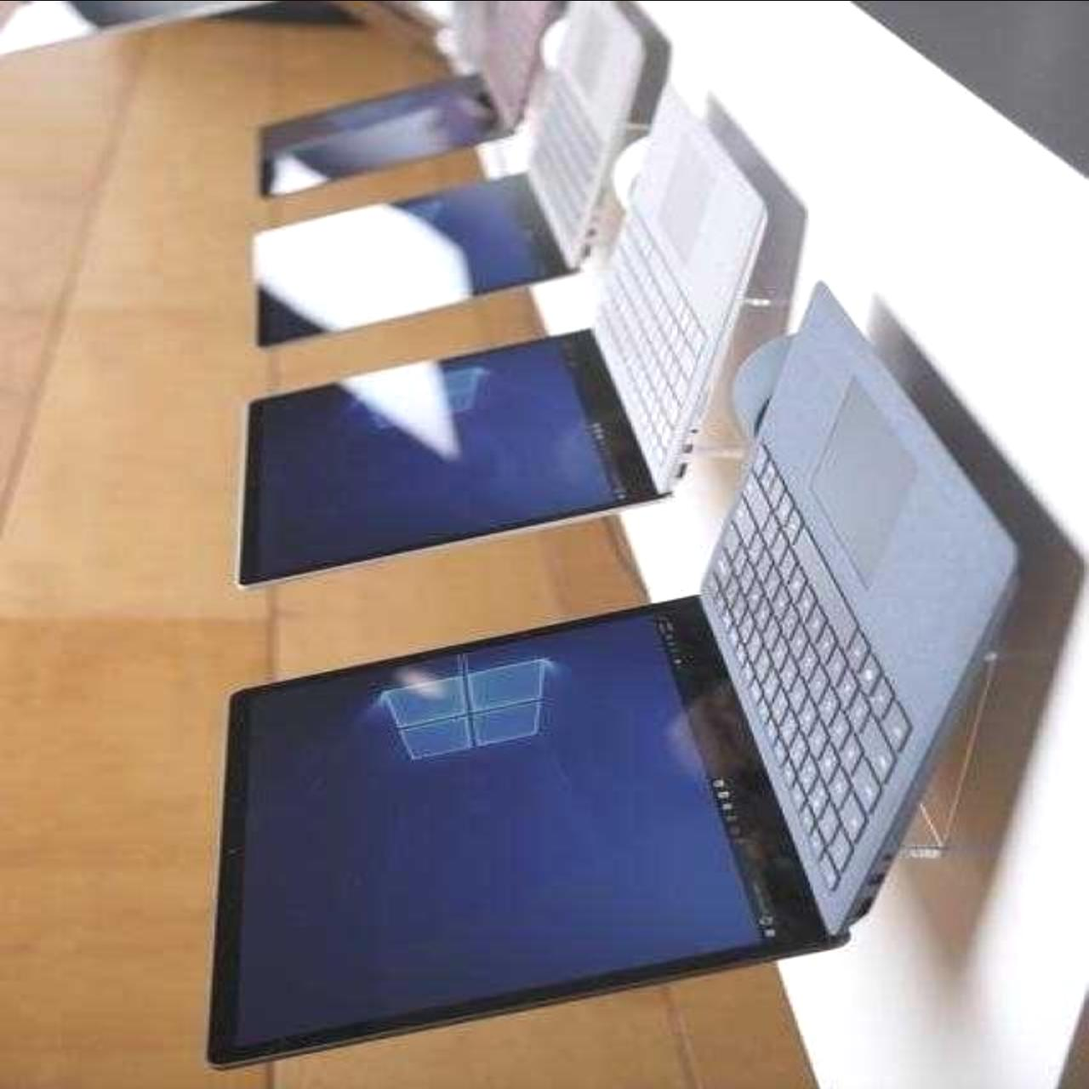laptop: (204, 305, 1052, 1033), (227, 119, 794, 596), (245, 0, 645, 356)
